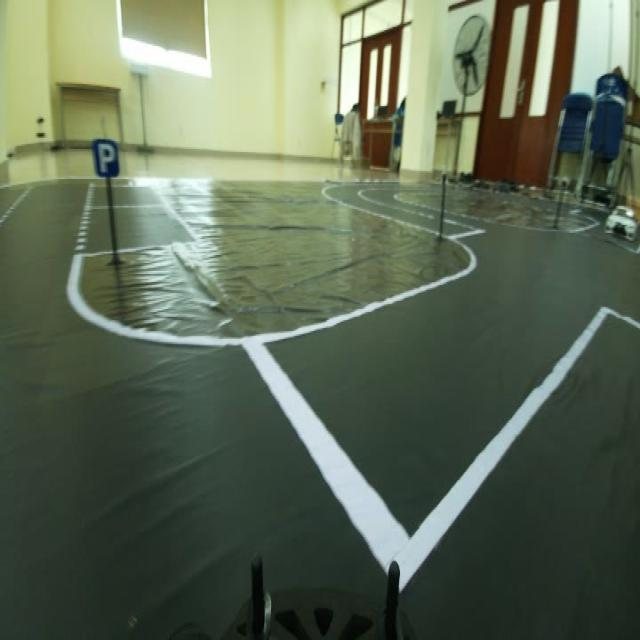parking: (92, 132, 120, 182)
